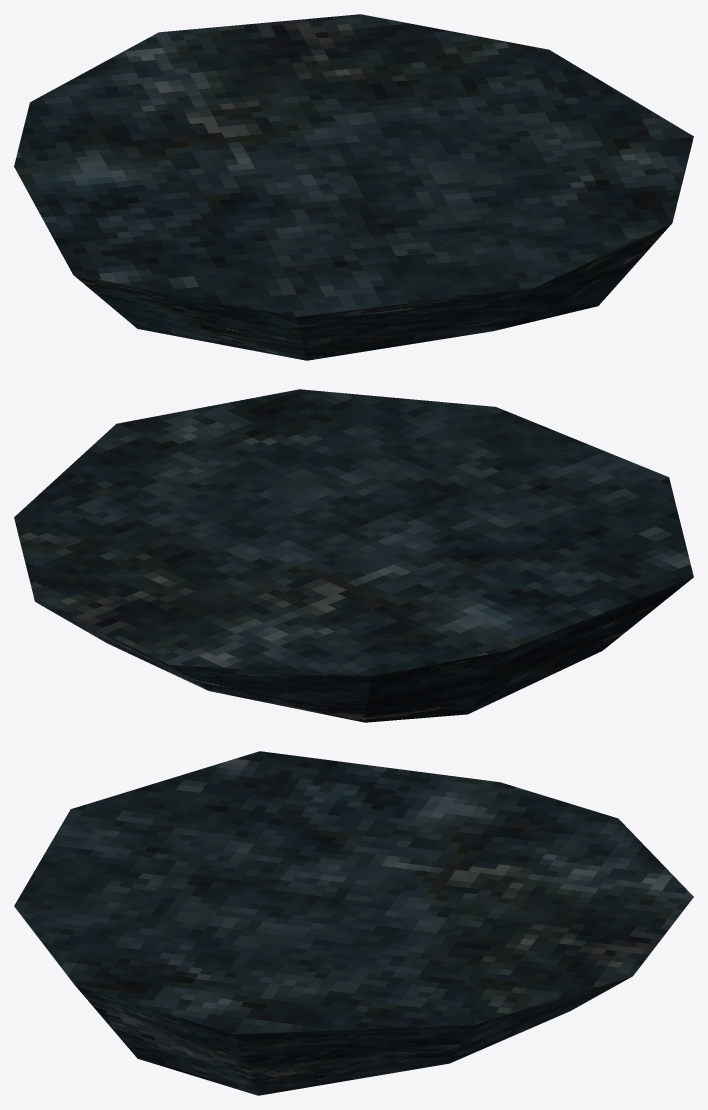
The model's file is Opening.fbx.
3 renders of one model, top to bottom at view 1: azimuth 30°, elevation 25°; view 2: azimuth 150°, elevation 25°; view 3: azimuth 270°, elevation 25°, orthographic. The views are drawn at different scales.
Parts seen in each view (by area): view 1: Cylinder; view 2: Cylinder; view 3: Cylinder.
Part boxes in pixels (x1,y1,x2,y2): Cylinder: (14, 14, 693, 360); Cylinder: (14, 389, 693, 722); Cylinder: (14, 751, 693, 1095).
Size of the model in its own units: 1020 by 155 by 1035.
